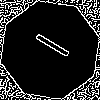I: (25, 25, 72, 61)
